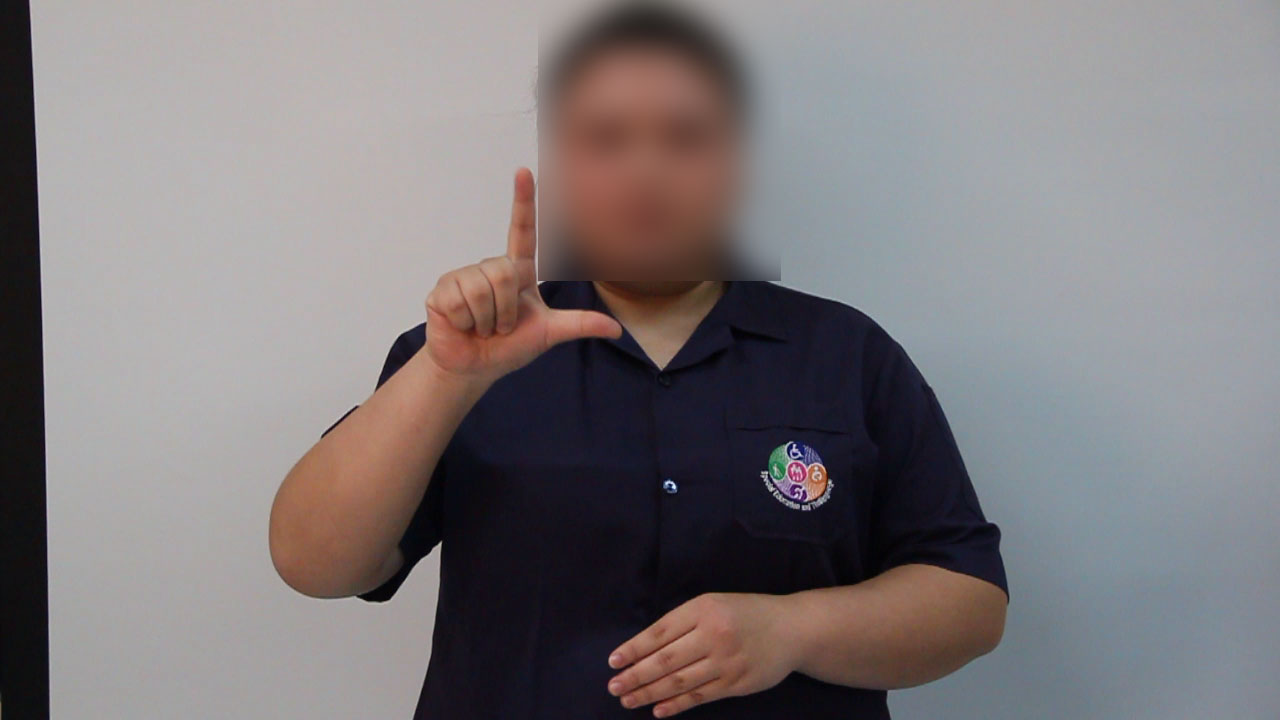lor: (412, 160, 633, 378)
